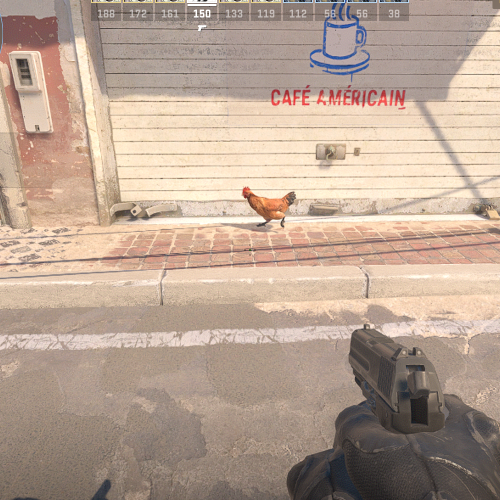chicken: (240, 183, 297, 229)
